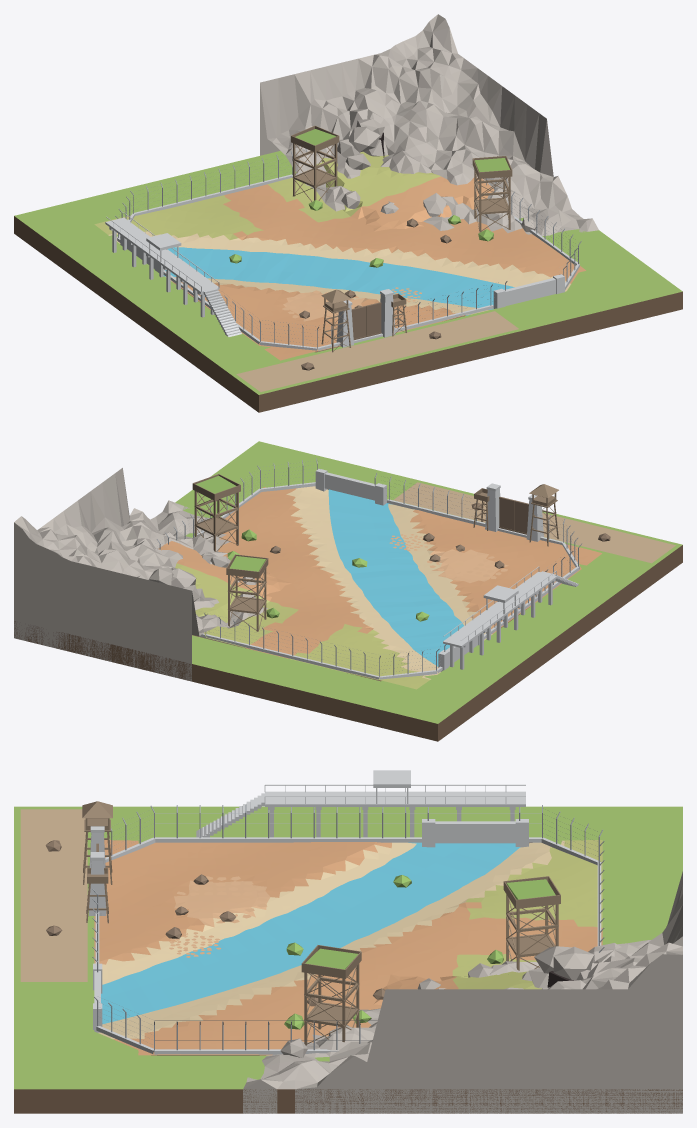
File: dinosaur_enclosure_100x100.glb
The picture shows the model from 3 angles, top to bottom: view 1: azimuth 30°, elevation 25°; view 2: azimuth 150°, elevation 25°; view 3: azimuth 270°, elevation 25°; orthographic projection. The views are drawn at different scales.
Visible parts, largest first — view 1: Enclosure_Terrain, Canyon_Cliff_Mountain, Outer_Lawn_Border, Diorama_Base_Sides, River_Water_Surface, Access_Road, Observation_Skywalk, Fence_Foundation, Feeding_Tower_North, Feeding_Tower_East, Fence_Posts, Floodgate_Portals (+4 smaller); view 2: Enclosure_Terrain, Canyon_Cliff_Mountain, Outer_Lawn_Border, Diorama_Base_Sides, River_Water_Surface, Access_Road, Observation_Skywalk, Fence_Foundation, Feeding_Tower_East, Feeding_Tower_North, Floodgate_Portals, Fence_Posts (+4 smaller); view 3: Enclosure_Terrain, Canyon_Cliff_Mountain, Outer_Lawn_Border, River_Water_Surface, Diorama_Base_Sides, Access_Road, Observation_Skywalk, Fence_Foundation, Feeding_Tower_East, Floodgate_Portals, Feeding_Tower_North, Fence_Posts (+9 smaller).
Boxes of the visible parts, left/top/right/bottom form: Enclosure_Terrain: left=94, top=151, right=585, bottom=360; Canyon_Cliff_Mountain: left=260, top=14, right=598, bottom=235; Outer_Lawn_Border: left=14, top=151, right=682, bottom=394; Diorama_Base_Sides: left=14, top=216, right=682, bottom=412; River_Water_Surface: left=163, top=247, right=514, bottom=315; Access_Road: left=236, top=311, right=518, bottom=391; Observation_Skywalk: left=105, top=212, right=219, bottom=317; Fence_Foundation: left=117, top=173, right=579, bottom=351; Feeding_Tower_North: left=291, top=125, right=339, bottom=201; Feeding_Tower_East: left=472, top=156, right=512, bottom=232; Fence_Posts: left=115, top=148, right=581, bottom=348; Floodgate_Portals: left=120, top=235, right=564, bottom=308; Enclosure_Terrain: left=158, top=486, right=601, bottom=689; Canyon_Cliff_Mountain: left=14, top=468, right=267, bottom=681; Outer_Lawn_Border: left=175, top=441, right=682, bottom=723; Diorama_Base_Sides: left=14, top=489, right=682, bottom=741; River_Water_Surface: left=328, top=489, right=463, bottom=666; Access_Road: left=393, top=482, right=675, bottom=563; Observation_Skywalk: left=443, top=566, right=556, bottom=669; Fence_Foundation: left=192, top=482, right=579, bottom=680; Feeding_Tower_East: left=192, top=474, right=240, bottom=551; Feeding_Tower_North: left=226, top=554, right=268, bottom=631; Floodgate_Portals: left=315, top=468, right=479, bottom=671; Fence_Posts: left=157, top=458, right=582, bottom=676; Enclosure_Terrain: left=94, top=840, right=602, bottom=1055; Canyon_Cliff_Mountain: left=243, top=871, right=682, bottom=1113; Outer_Lawn_Border: left=14, top=806, right=682, bottom=1089; River_Water_Surface: left=101, top=842, right=520, bottom=1024; Diorama_Base_Sides: left=14, top=842, right=682, bottom=1113; Access_Road: left=20, top=809, right=87, bottom=981; Observation_Skywalk: left=264, top=770, right=525, bottom=837; Fence_Foundation: left=95, top=837, right=601, bottom=1054; Feeding_Tower_East: left=301, top=945, right=361, bottom=1045; Floodgate_Portals: left=93, top=819, right=528, bottom=1032; Feeding_Tower_North: left=503, top=876, right=560, bottom=970; Fence_Posts: left=92, top=805, right=604, bottom=1050.
Size of the model in its own units: 100 by 26.32 by 100.
